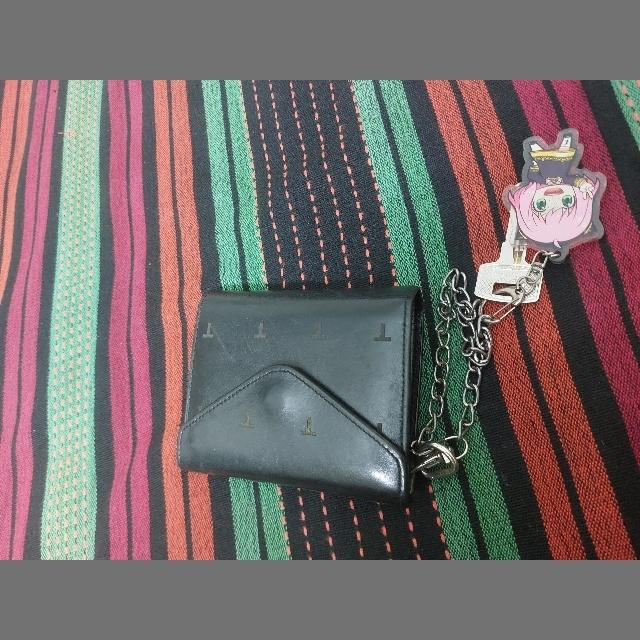Wallet: (175, 286, 422, 504)
